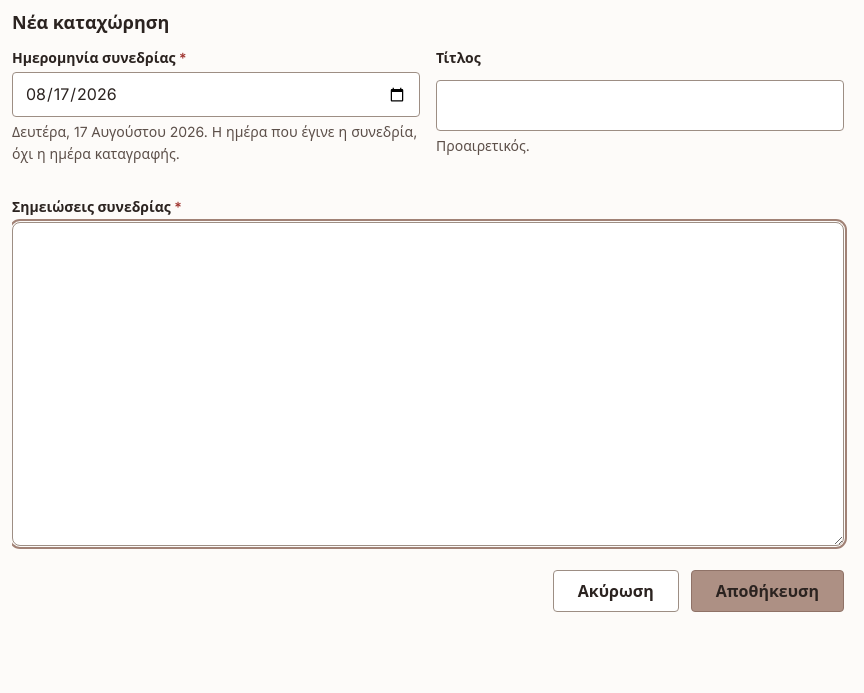
Test: JournalEntryForm › should keep the text on screen when the save fails
Type "Μια ολόκληρη συνεδρία." into the text box labelled "Σημειώσεις συνεδρίας *".
click(428, 384); type("Μια ολόκληρη συνεδρία.")  # box [12, 222, 844, 546]
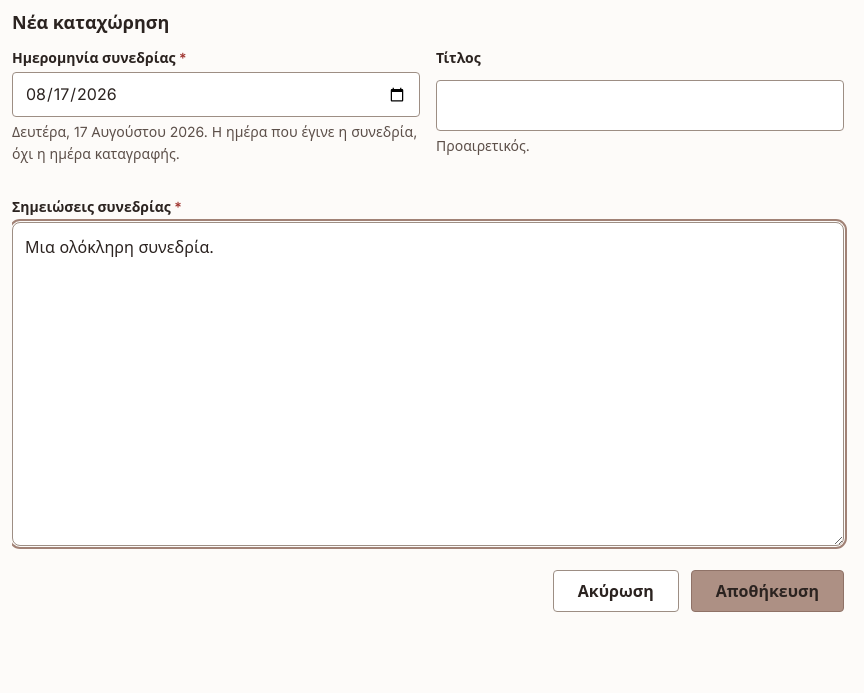
Click the button "Αποθήκευση".
click(767, 591)  # box [691, 570, 844, 612]
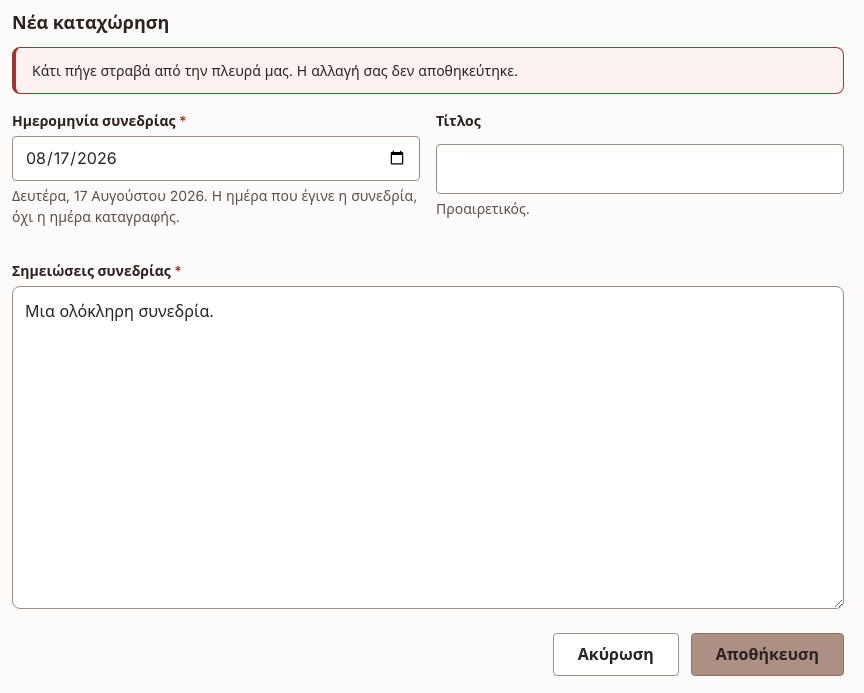
Result: the message "Κάτι πήγε στραβά από την πλευρά μας. Η αλλαγή σας δεν αποθηκεύτηκε." is shown at [12, 46, 844, 94]
